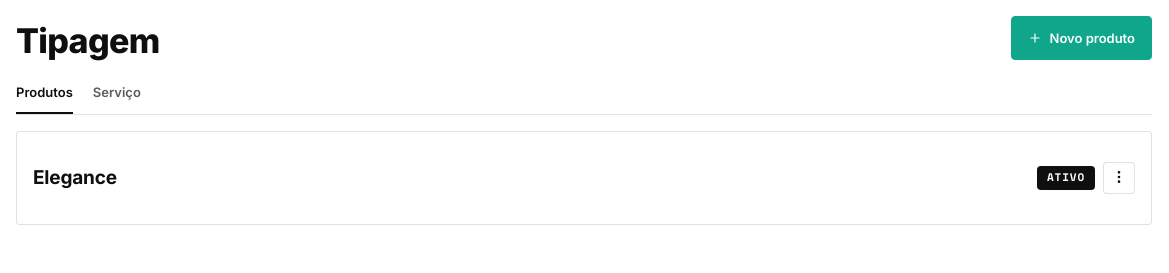
Test case: Tipagem › aba Produtos lista os produtos e expande para mostrar os serviços agrupados
Expected: the text "Entrada" is not shown
Click the button "Elegance" at [75, 177], box [33, 167, 1025, 189]
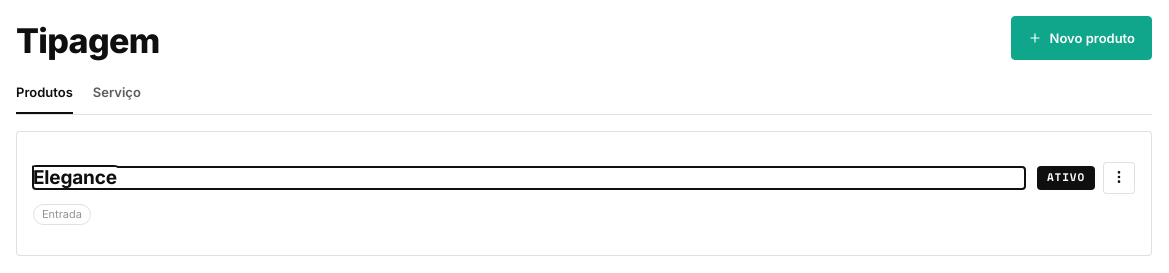
Expected: the text "Entrada" is shown, [33, 204, 91, 225]
